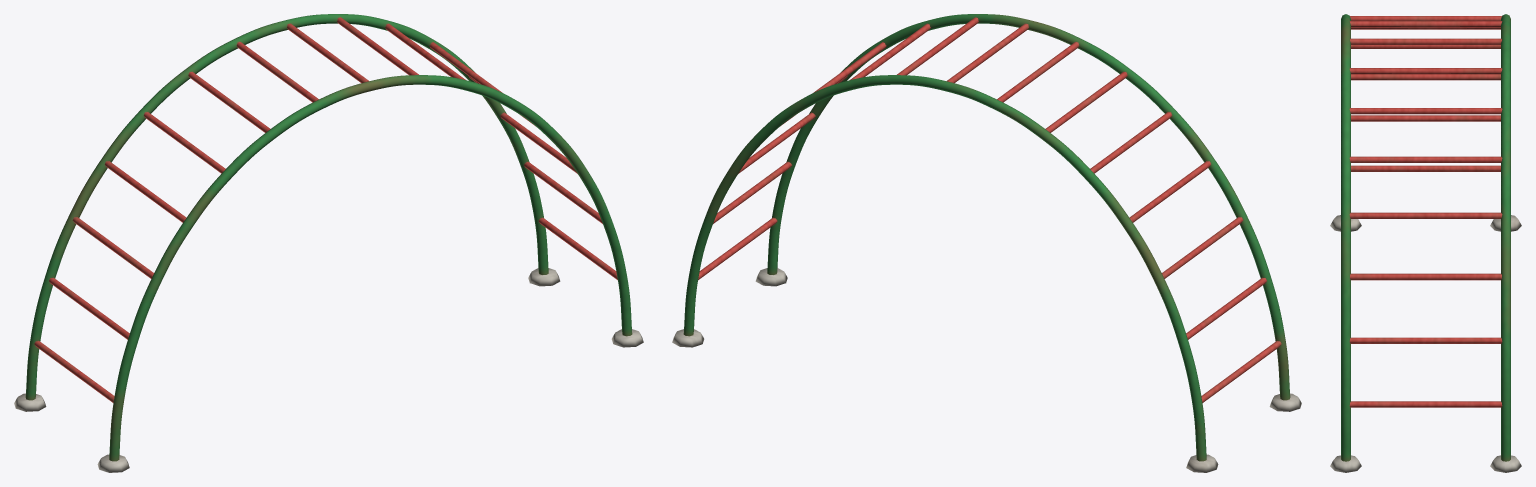
Rendered from plac_drabinka.glb.
The picture shows the model from 3 angles, left to right: view 1: azimuth 30°, elevation 25°; view 2: azimuth 150°, elevation 25°; view 3: azimuth 270°, elevation 25°; orthographic projection. The views are drawn at different scales.
Visible parts, largest first — view 1: Drabinka; view 2: Drabinka; view 3: Drabinka.
Part boxes in pixels (x1=…): Drabinka: x1=14, y1=14, x2=643, y2=472; Drabinka: x1=672, y1=14, x2=1301, y2=472; Drabinka: x1=1330, y1=14, x2=1521, y2=472.
Bounding box in the file's own units: 3.38 × 1.92 × 1.08.
1 material, 1 textured.
